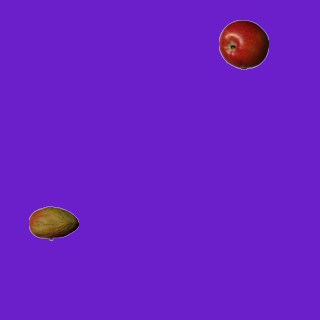Apple Braeburn: (218, 19, 268, 69)
Papaya: (28, 198, 78, 248)
